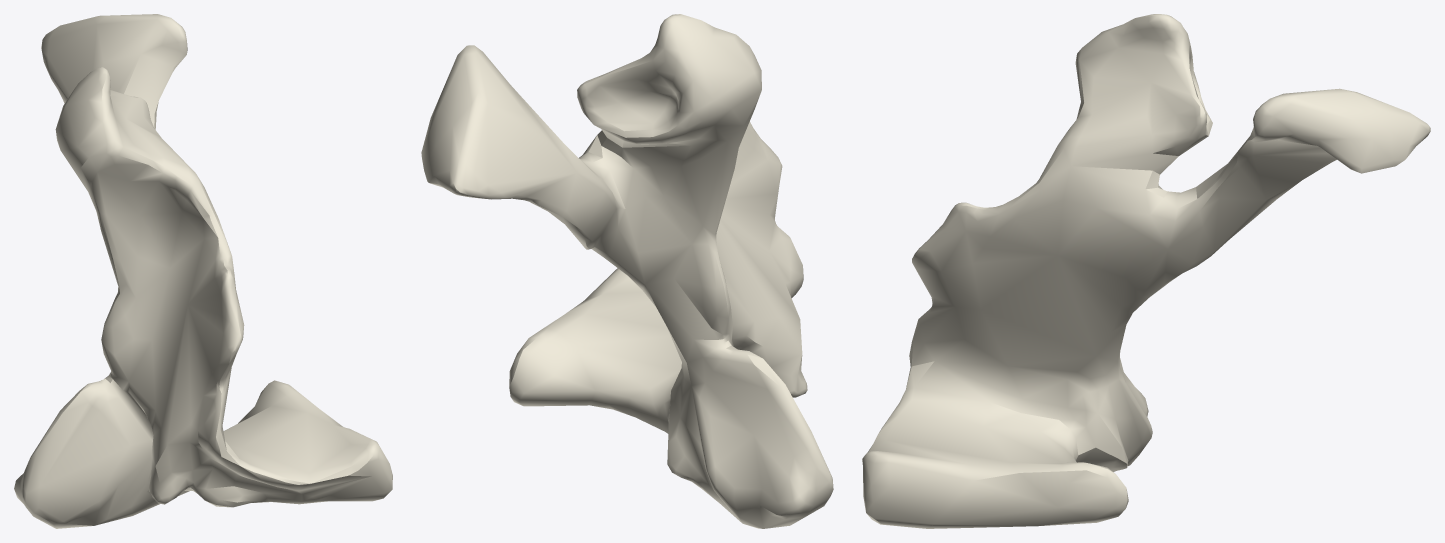
Rendered from fma53655_fj6471.glb.
The picture shows the model from 3 angles, left to right: view 1: azimuth 30°, elevation 25°; view 2: azimuth 150°, elevation 25°; view 3: azimuth 270°, elevation 25°; orthographic projection. The views are drawn at different scales.
Visible parts, largest first — view 1: FMA53655_FJ6471; view 2: FMA53655_FJ6471; view 3: FMA53655_FJ6471.
Boxes of the visible parts, <box> form: FMA53655_FJ6471: <box>14,14,392,528</box>; FMA53655_FJ6471: <box>421,14,833,528</box>; FMA53655_FJ6471: <box>862,14,1430,528</box>.
Size of the model in its own units: 0.0289 by 0.0435 by 0.0466.
